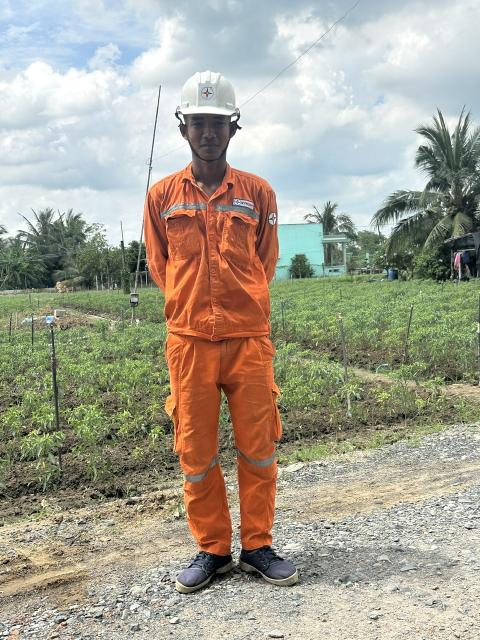helmet: (175, 68, 247, 128)
shoes: (167, 526, 236, 604), (233, 533, 314, 598)
